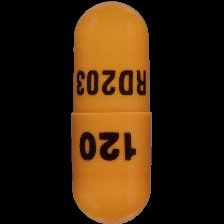51991-819: (0, 0, 224, 224)
